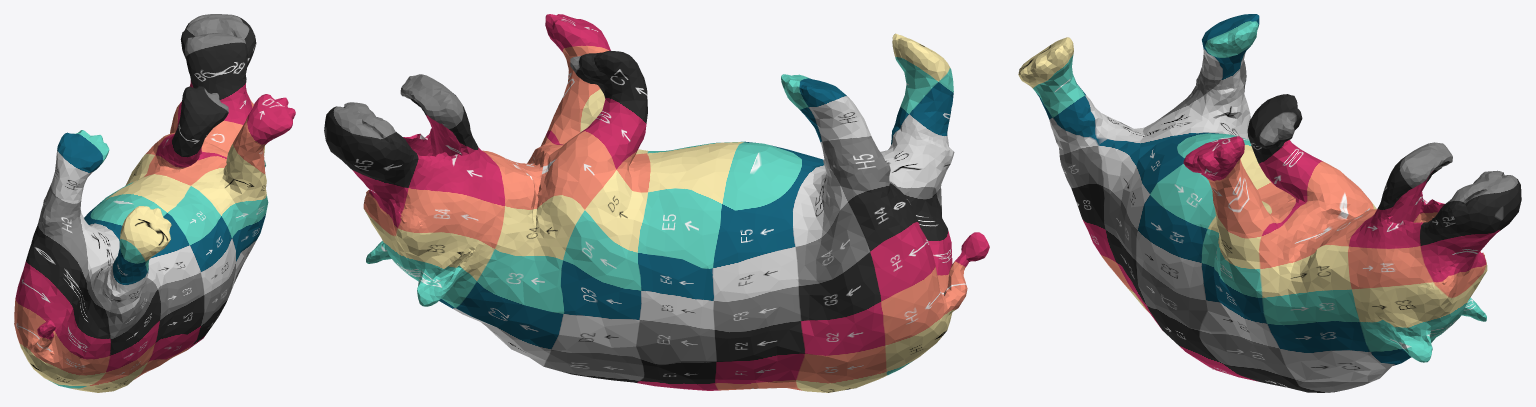
The model's file is hippo_04-hippo_06.obj.
The picture shows the model from 3 angles, left to right: view 1: azimuth 30°, elevation 25°; view 2: azimuth 150°, elevation 25°; view 3: azimuth 270°, elevation 25°; orthographic projection. The views are drawn at different scales.
Parts seen in each view (by area): view 1: hippo_04-hippo_06_export; view 2: hippo_04-hippo_06_export; view 3: hippo_04-hippo_06_export.
Boxes of the visible parts, x1,y1,x2,y2 form: hippo_04-hippo_06_export: (14, 14, 295, 392); hippo_04-hippo_06_export: (324, 14, 989, 392); hippo_04-hippo_06_export: (1018, 14, 1521, 392).
Size of the model in its own units: 0.7416 by 0.49 by 0.7229.
